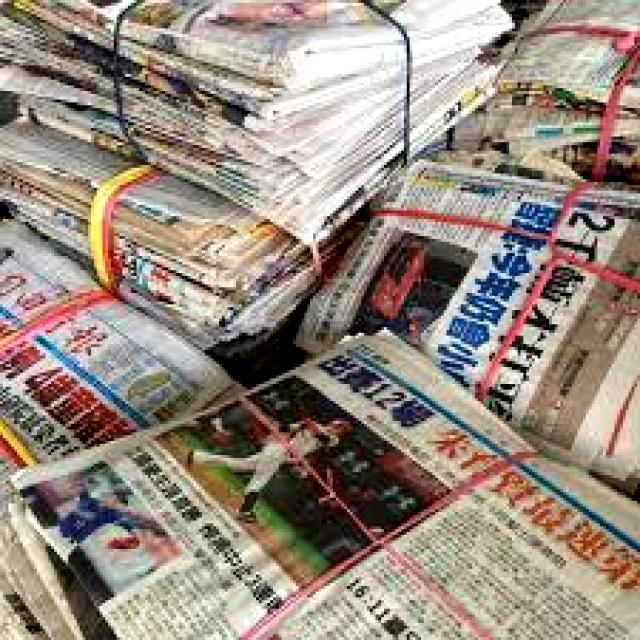Paper: (0, 322, 640, 640), (0, 0, 520, 390), (290, 153, 640, 492)
